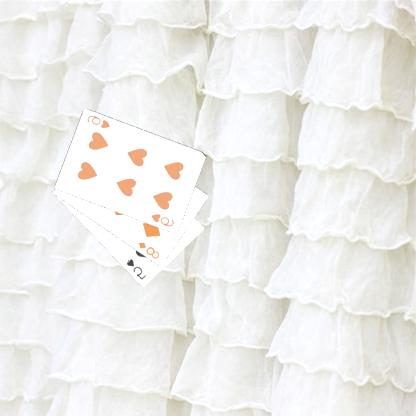5S: (126, 256, 150, 281)
6H: (86, 113, 113, 130), (151, 211, 177, 228)
8D: (137, 240, 163, 260)
